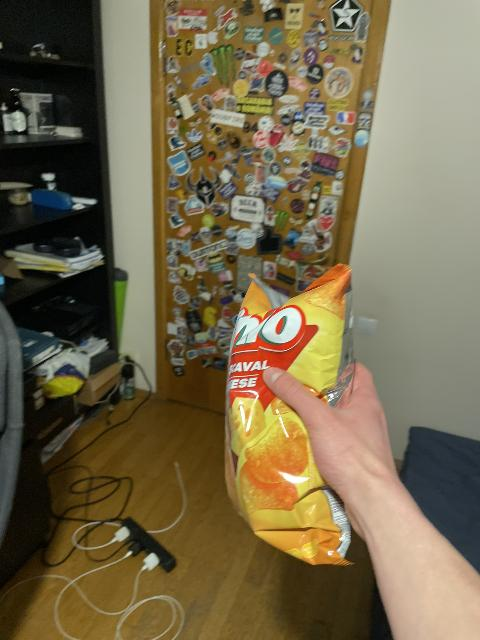Chio Cascaval 125g: (225, 260, 359, 564)
